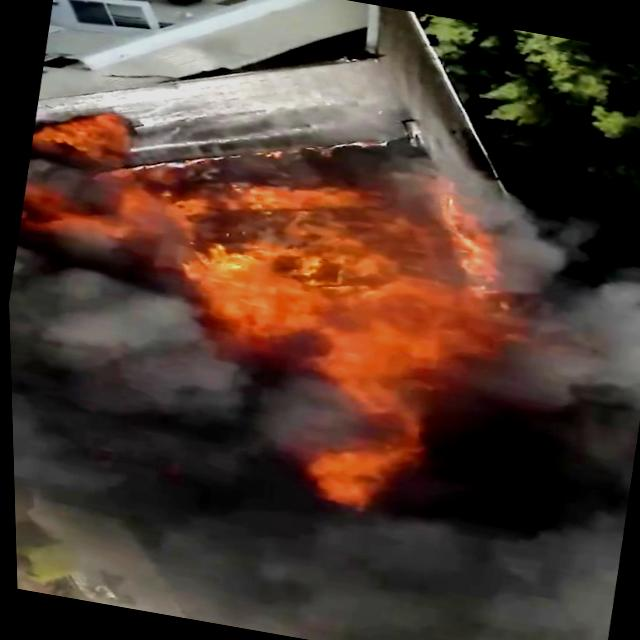fire: (179, 176, 510, 393)
smoke: (7, 291, 284, 536), (490, 322, 640, 640)
